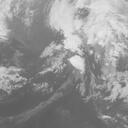cyclone: (52, 30, 115, 92)
